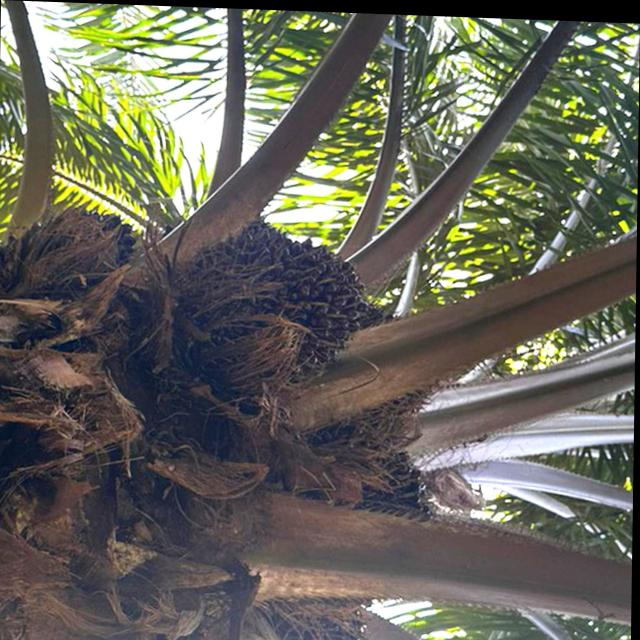almost: (171, 204, 382, 398), (276, 440, 439, 613), (54, 199, 143, 289)
